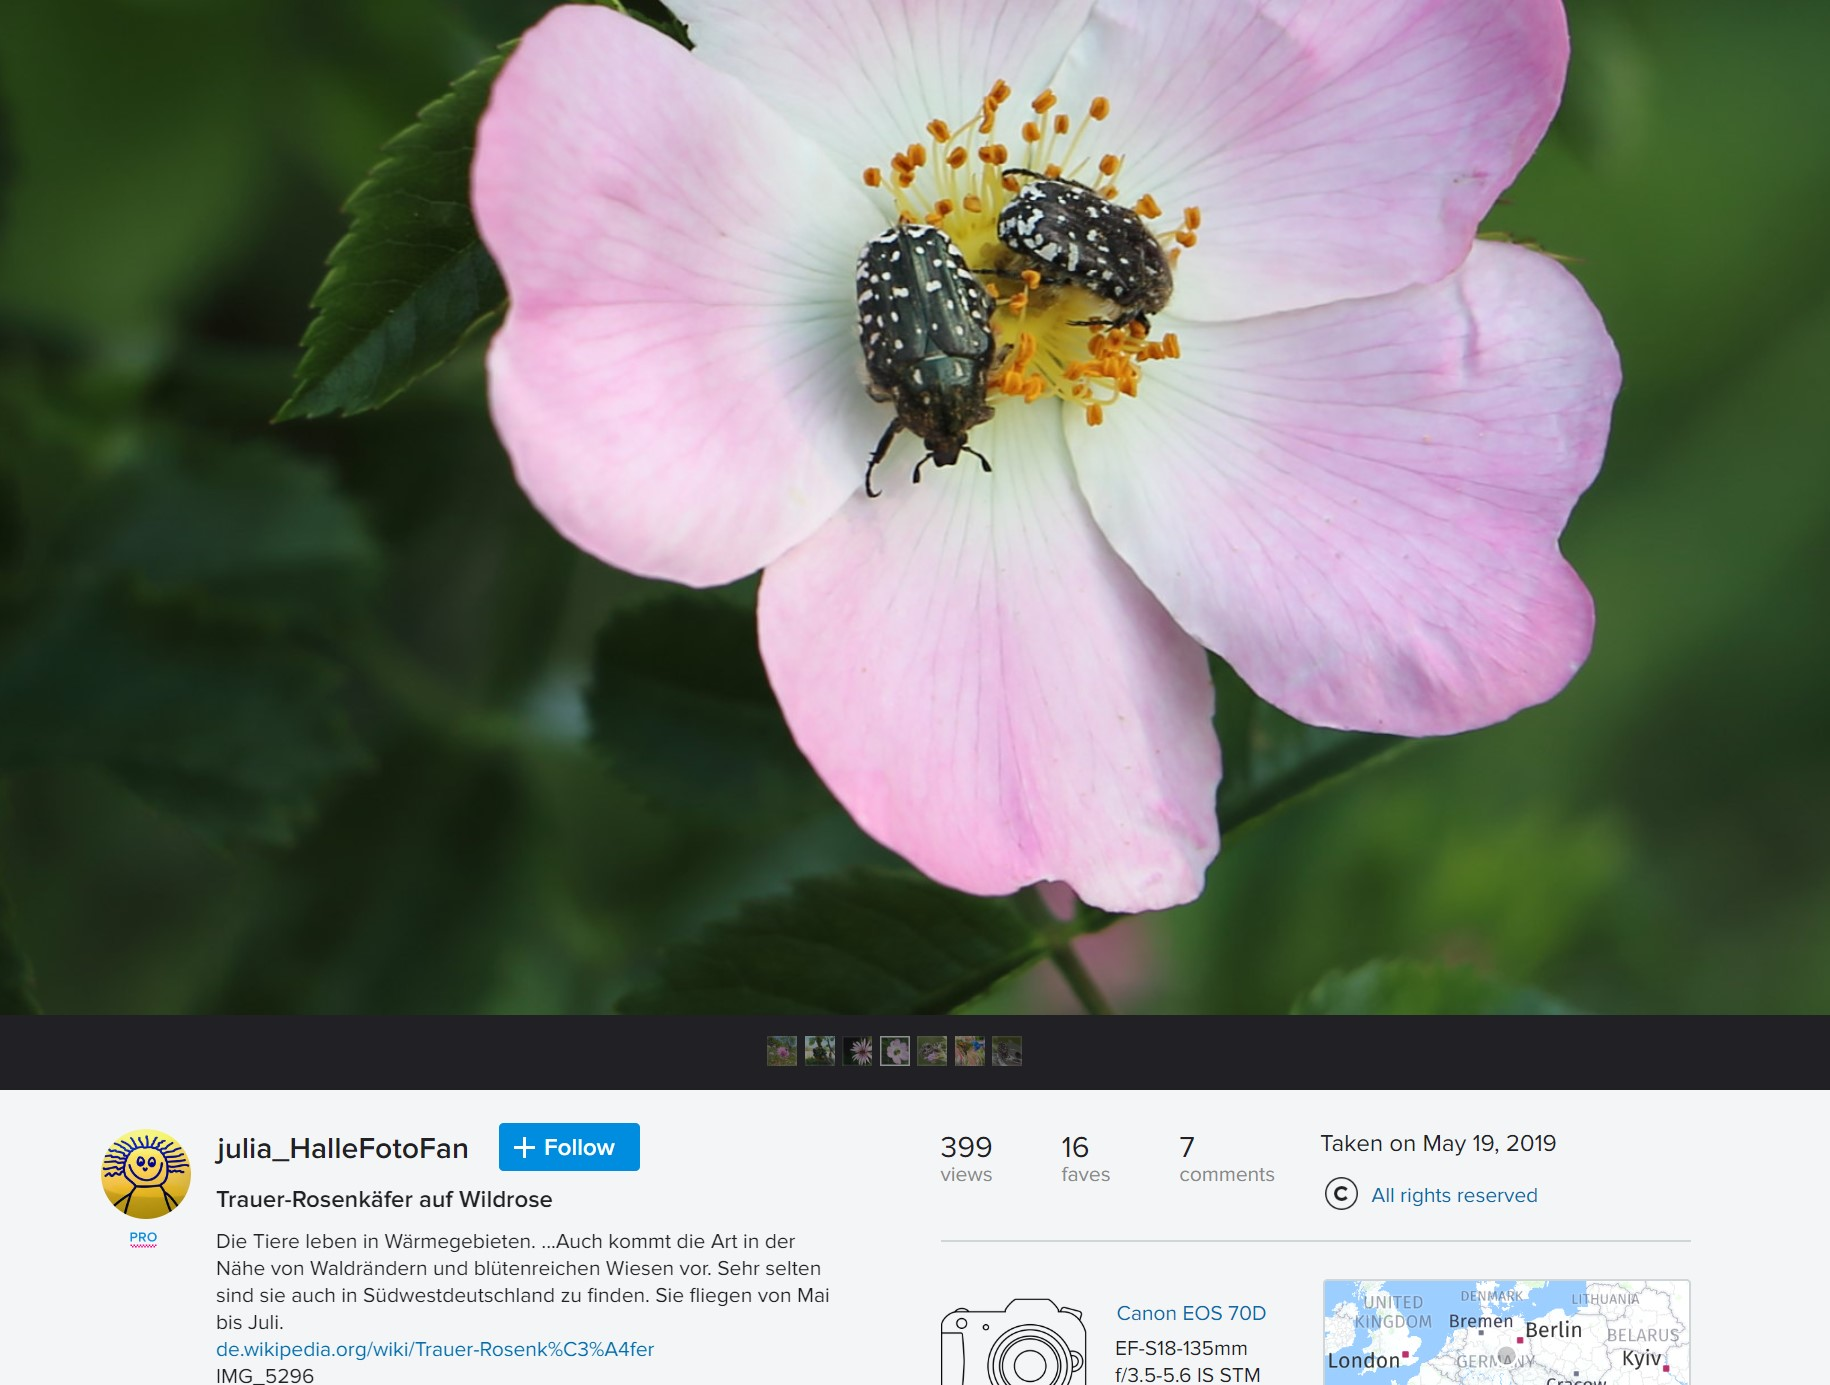Oxythyrea_funesta: (844, 209, 991, 499), (991, 150, 1218, 316)
